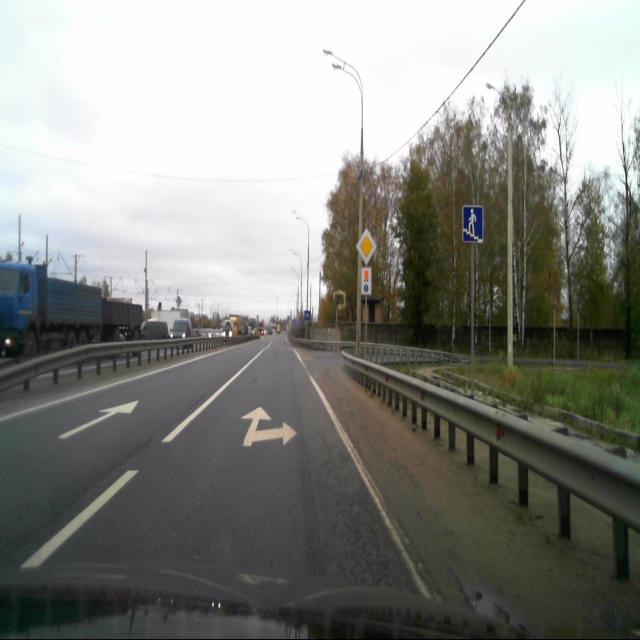road sign: (462, 204, 484, 244), (356, 228, 377, 266)
